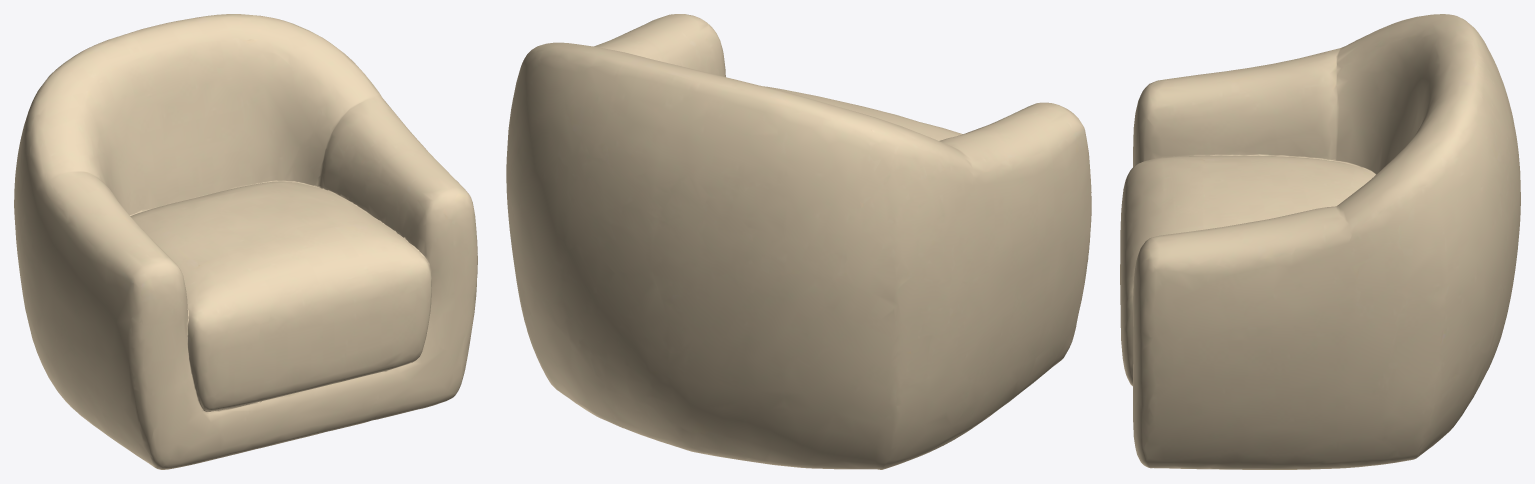
The model's file is lounge-chair-cream-boucle-35k.glb.
The picture shows the model from 3 angles, left to right: view 1: azimuth 30°, elevation 25°; view 2: azimuth 150°, elevation 25°; view 3: azimuth 270°, elevation 25°; orthographic projection. The views are drawn at different scales.
Visible parts, largest first — view 1: world; view 2: world; view 3: world.
Part boxes in pixels (<box>): world: <box>14,14,477,469</box>; world: <box>506,14,1091,469</box>; world: <box>1120,14,1520,469</box>.
Bounding box in the file's own units: 1 × 0.8088 × 0.8791.
1 material, 1 textured.
